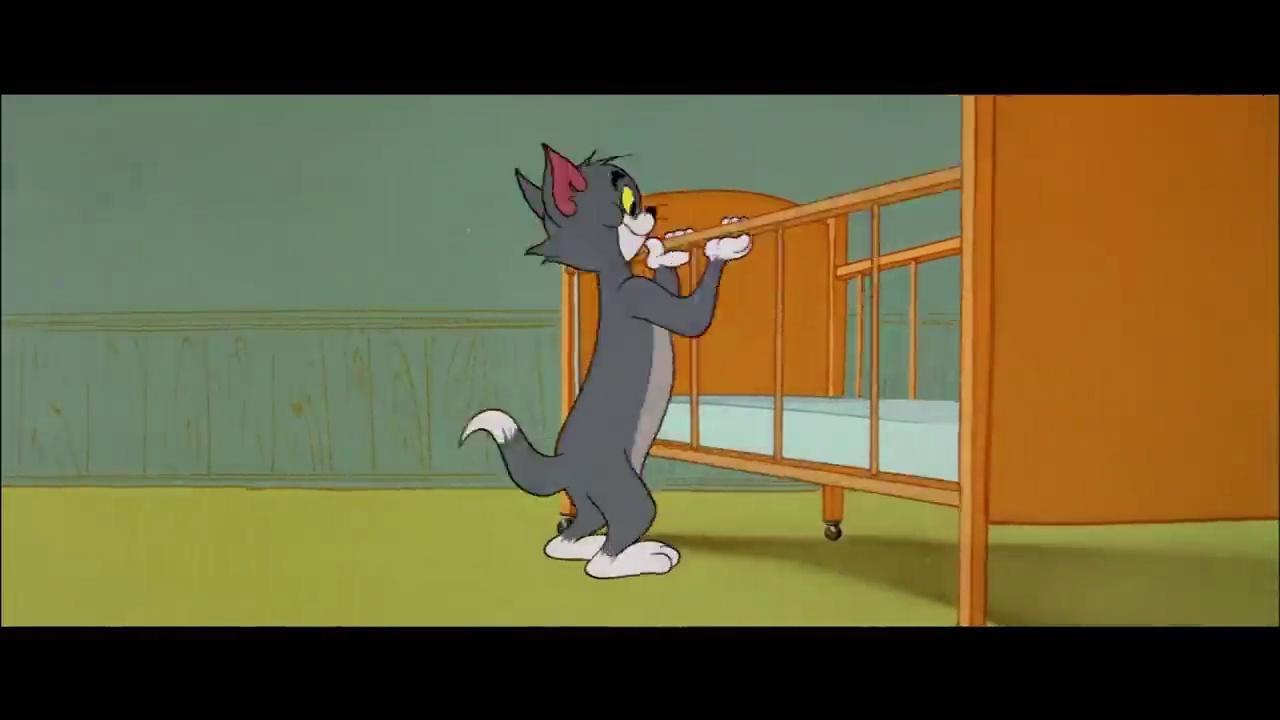Tom: (459, 139, 755, 580)
